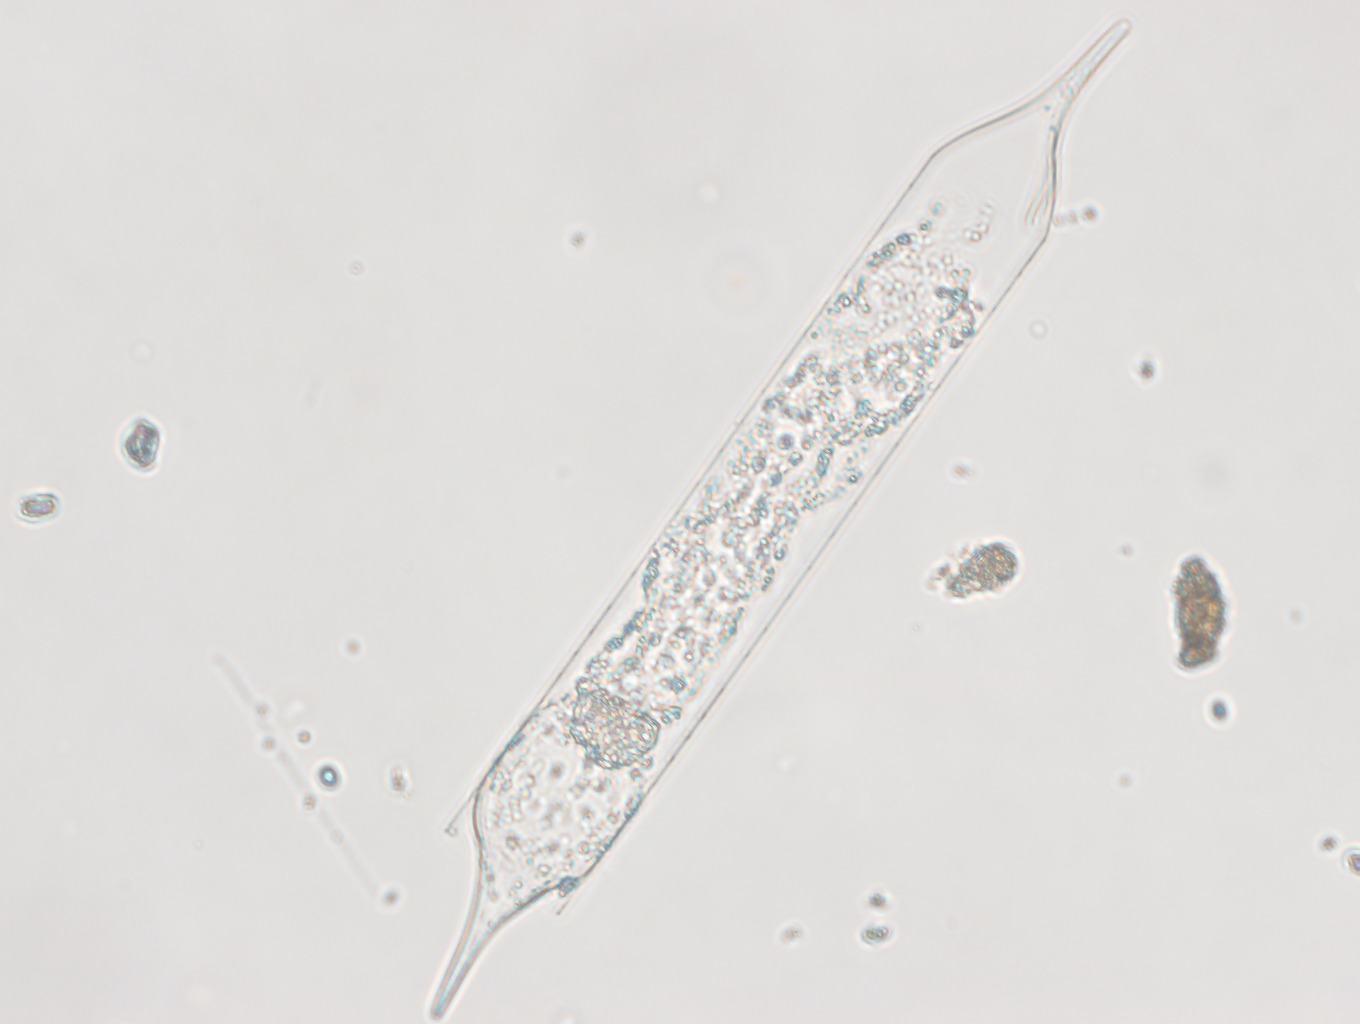rhizosolenia: (425, 13, 1136, 1024)
